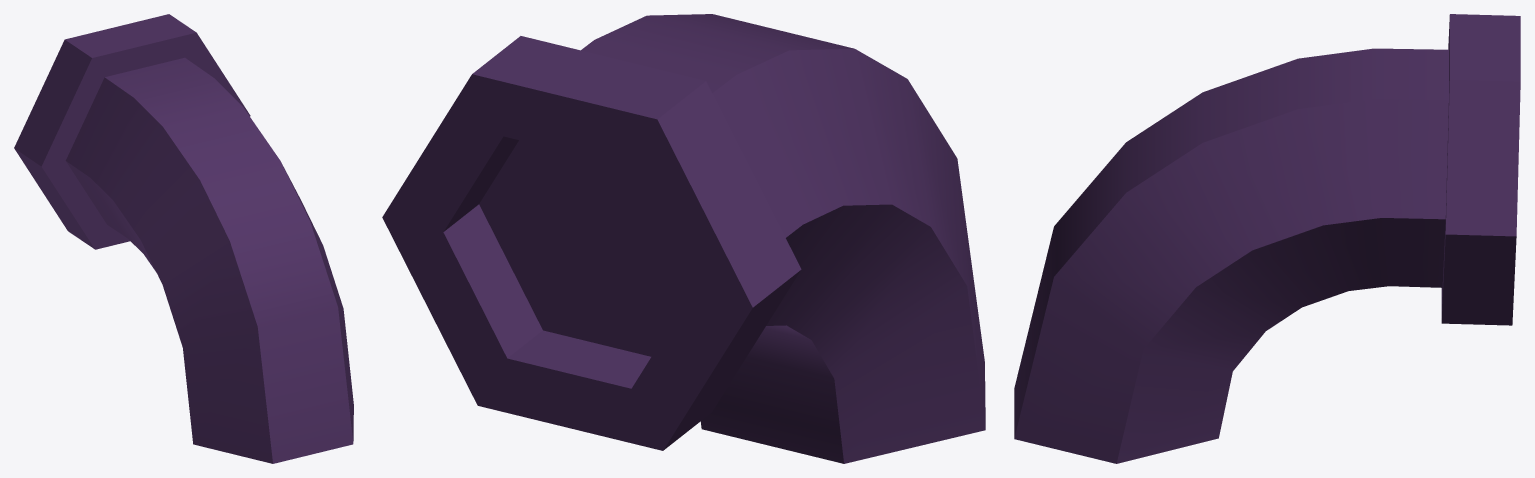
The model's file is TuberiaChicae.fbx.
3 renders of one model, left to right at view 1: azimuth 30°, elevation 25°; view 2: azimuth 150°, elevation 25°; view 3: azimuth 270°, elevation 25°, orthographic. The views are drawn at different scales.
Parts seen in each view (by area): view 1: pCylinder34; view 2: pCylinder34; view 3: pCylinder34.
Part boxes in pixels (bbox=[...]): pCylinder34: bbox=[14, 14, 353, 463]; pCylinder34: bbox=[382, 14, 985, 463]; pCylinder34: bbox=[1014, 14, 1520, 463].
Size of the model in its own units: 80 by 104 by 130.
